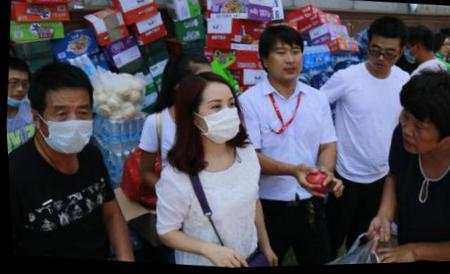NONE: (395, 114, 435, 158), (270, 46, 304, 84), (366, 44, 399, 75), (438, 44, 450, 60)
OK: (42, 92, 98, 158), (193, 91, 243, 145), (401, 44, 426, 70)
WRONG: (5, 74, 30, 109)
